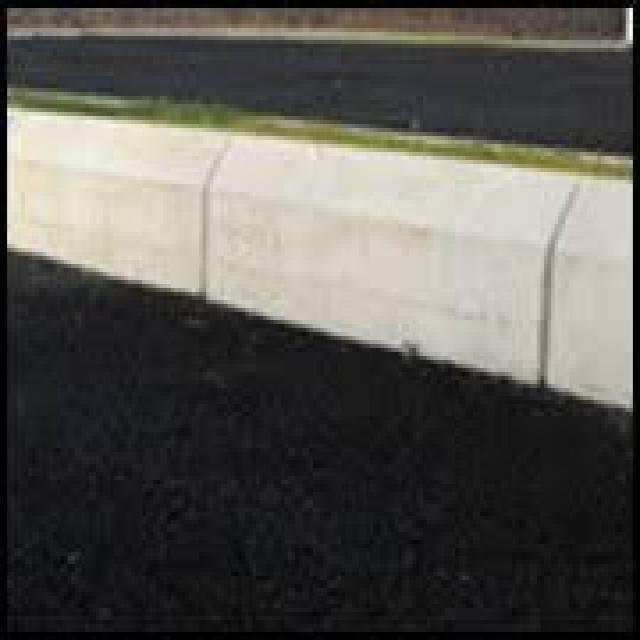bump: (15, 86, 640, 492)
